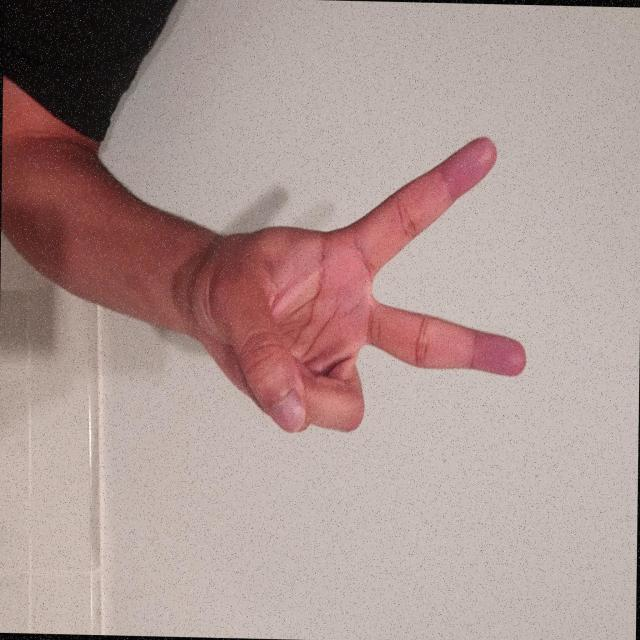V: (252, 142, 498, 628)
